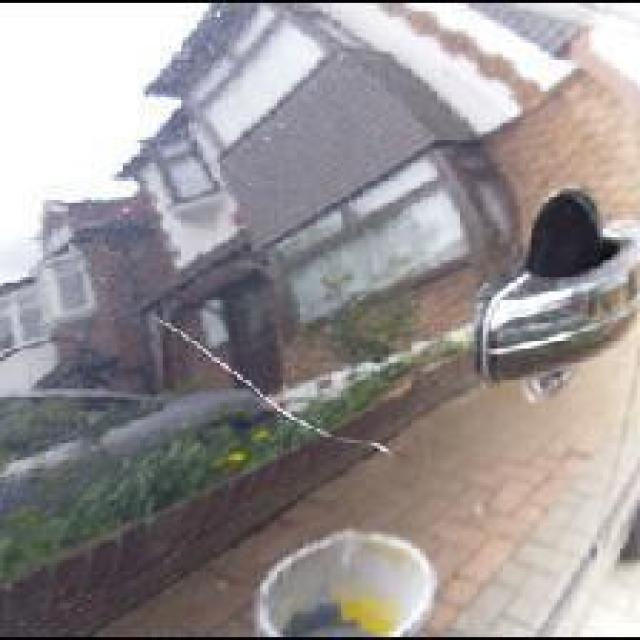damaged: (140, 303, 406, 480)
